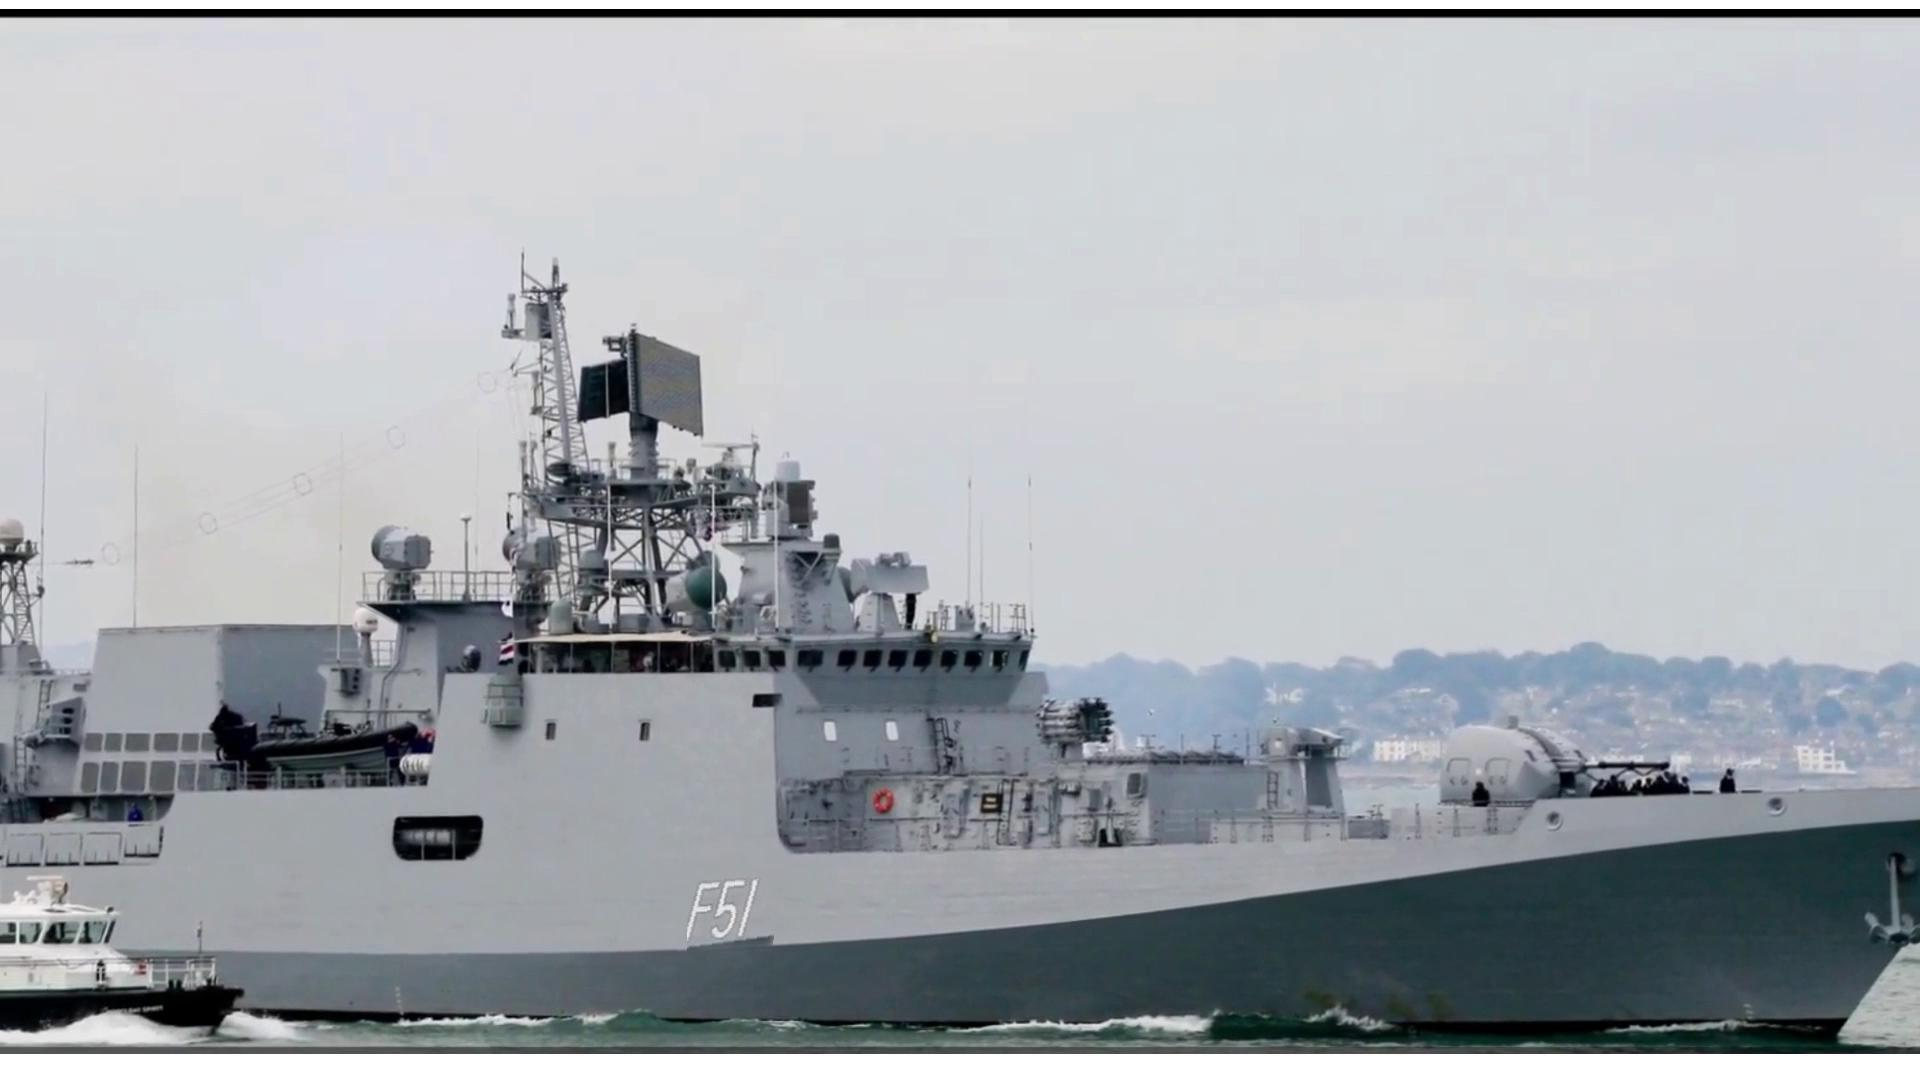OCR: (687, 868, 790, 957)
